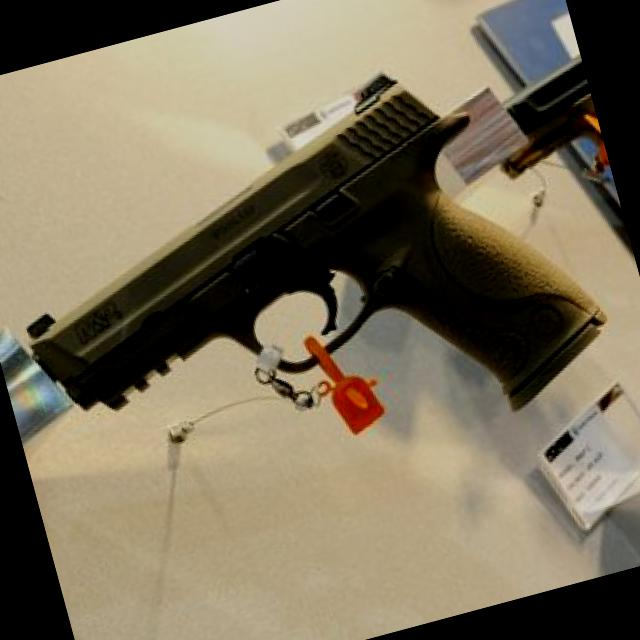handgun: (0, 27, 622, 509)
